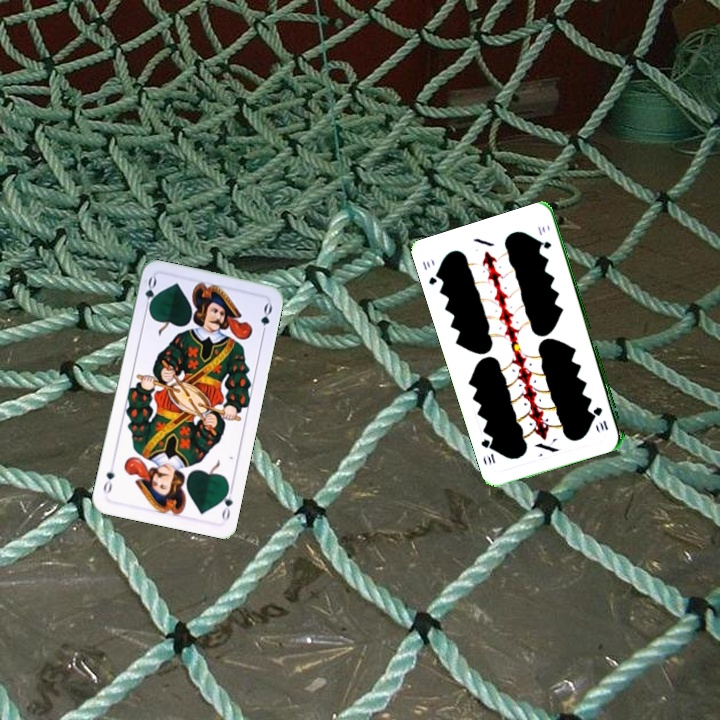G10: (418, 257, 444, 288), (591, 403, 611, 433)
GO: (217, 482, 236, 523), (141, 273, 159, 314)
